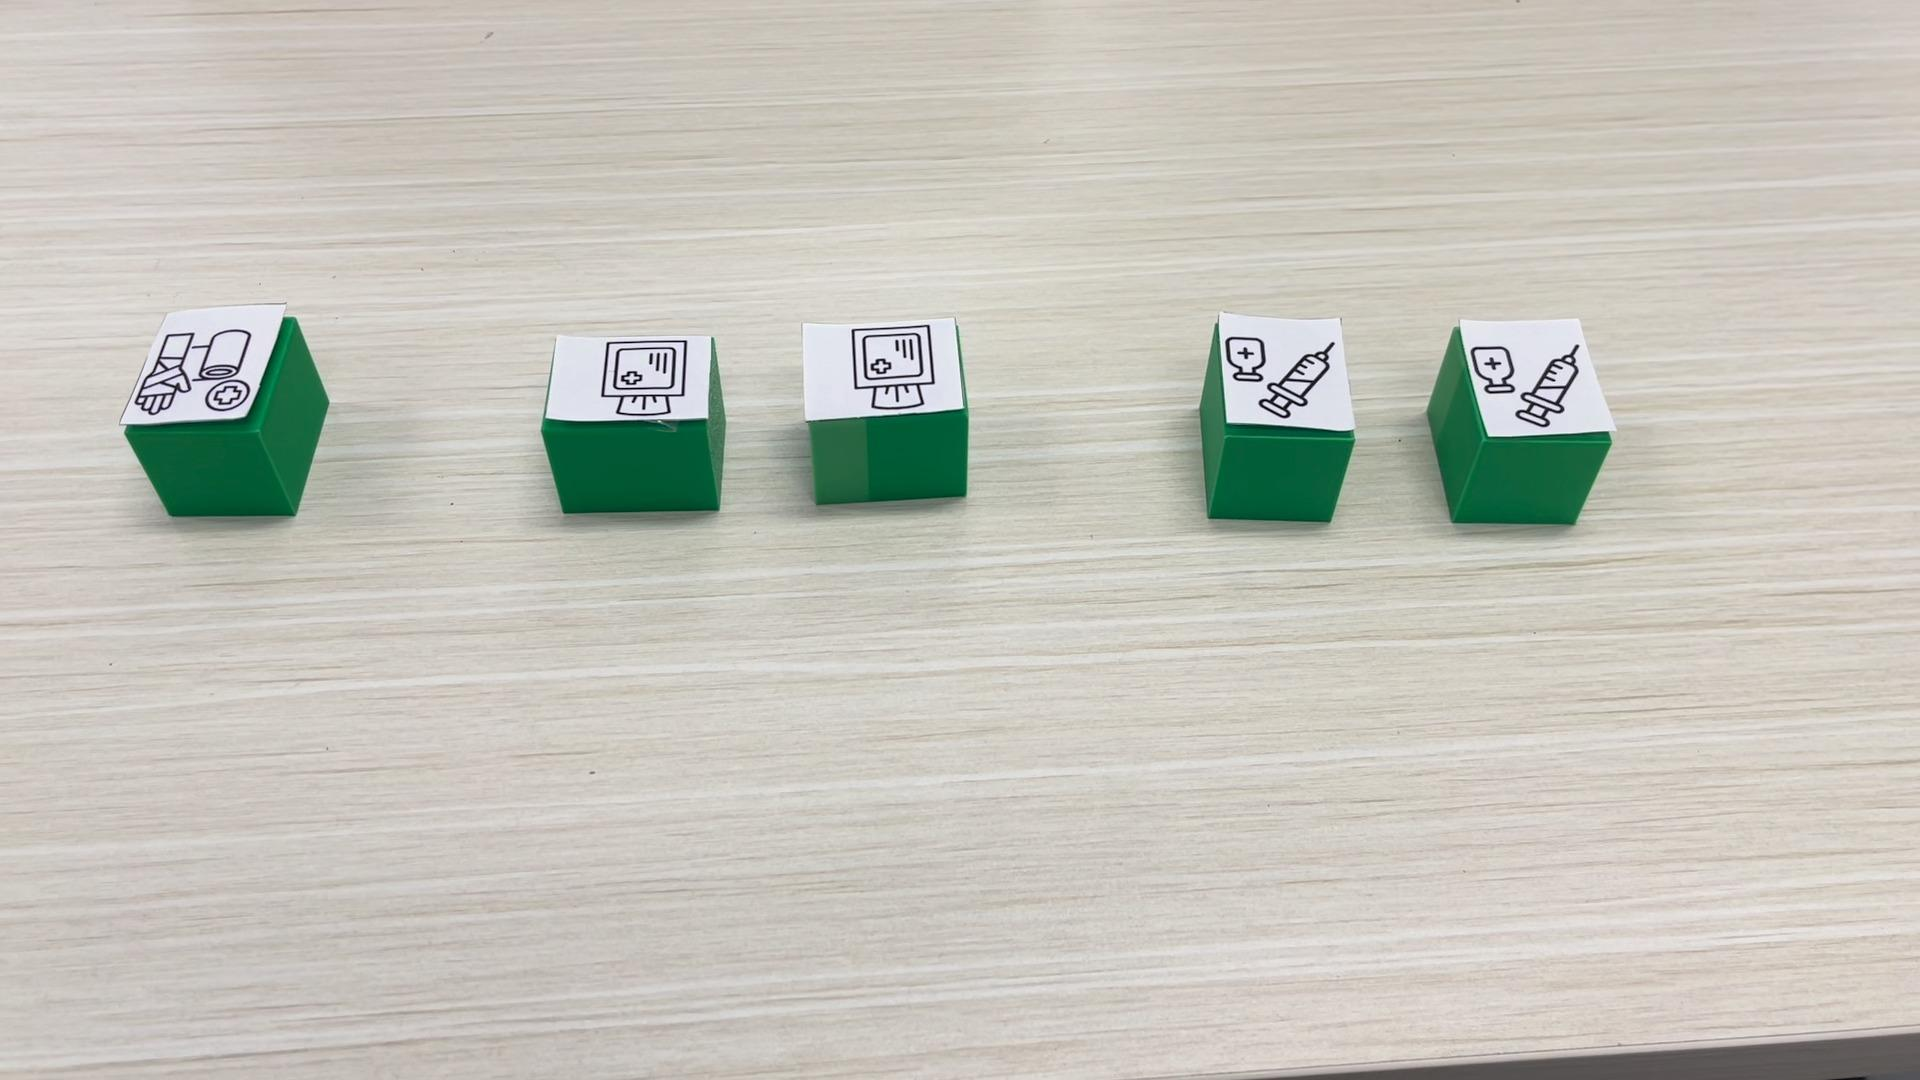Bandages: (121, 302, 328, 518)
Gauze: (541, 331, 724, 512), (802, 314, 971, 505)
antiseptic cream: (1425, 315, 1617, 524), (1197, 310, 1353, 524)
